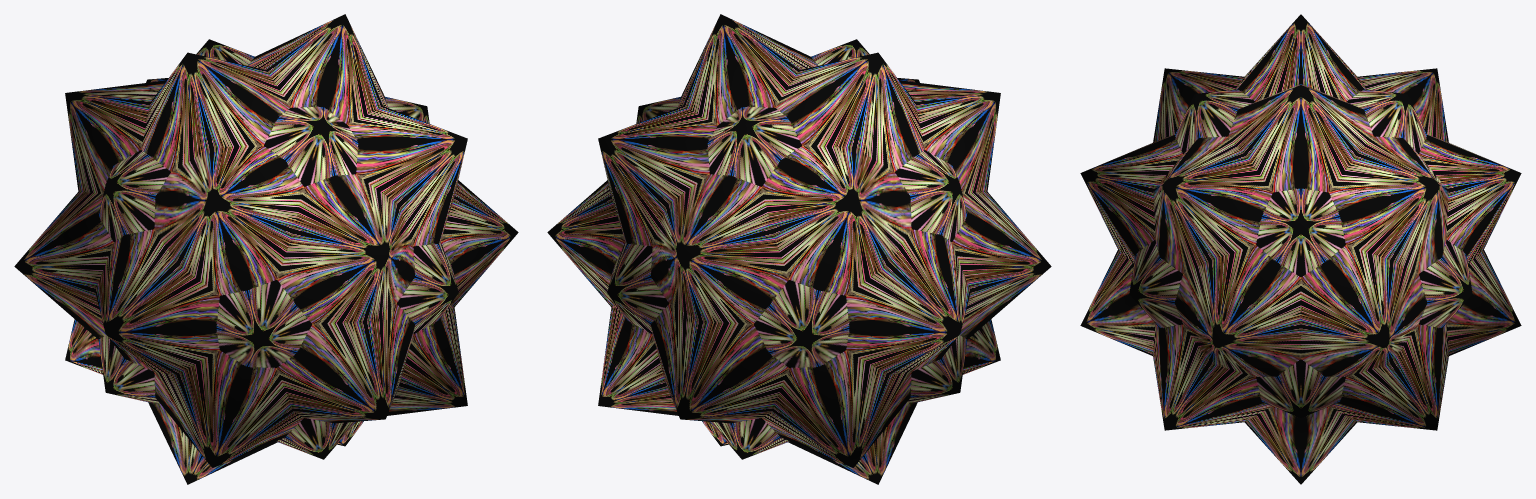
The model's file is MedialIcosacronicHexecontahedron9.gltf.
3 renders of one model, left to right at view 1: azimuth 30°, elevation 25°; view 2: azimuth 150°, elevation 25°; view 3: azimuth 270°, elevation 25°, orthographic. The views are drawn at different scales.
Visible parts, largest first — view 1: MedialIcosacronicHexecontahedron9; view 2: MedialIcosacronicHexecontahedron9; view 3: MedialIcosacronicHexecontahedron9.
Part boxes in pixels (x1,y1,x2,y2): MedialIcosacronicHexecontahedron9: [14, 14, 518, 484]; MedialIcosacronicHexecontahedron9: [547, 14, 1051, 484]; MedialIcosacronicHexecontahedron9: [1080, 14, 1521, 484].
Size of the model in its own units: 3.24 by 3.24 by 3.24.
Materials: 1 (1 with a texture image).
